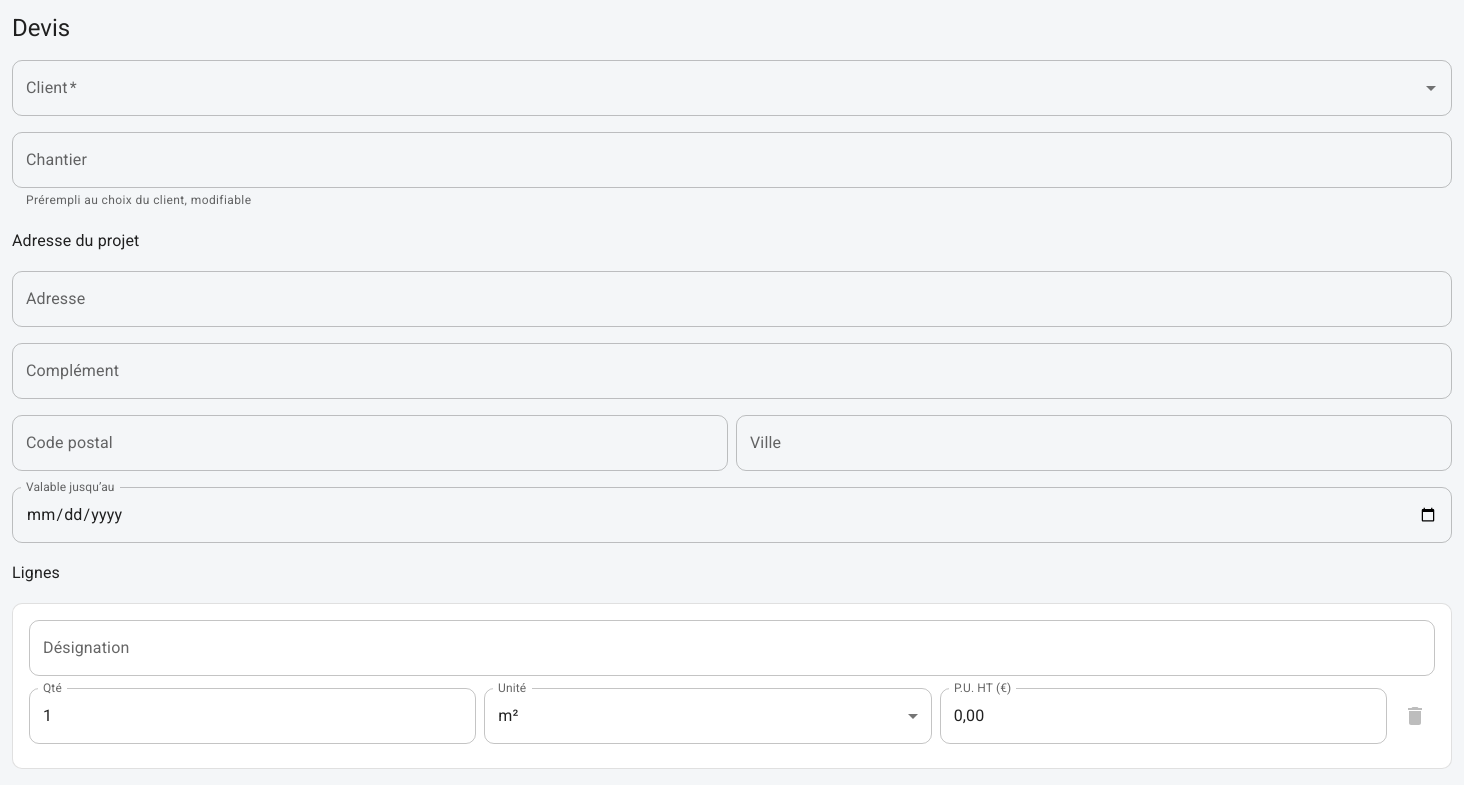
Scenario: DocumentEditPage › préremplit le prix HT à la sélection d’une désignation
Click the dropdown labelled "Désignation" at (717, 648), box [38,629,1396,667]
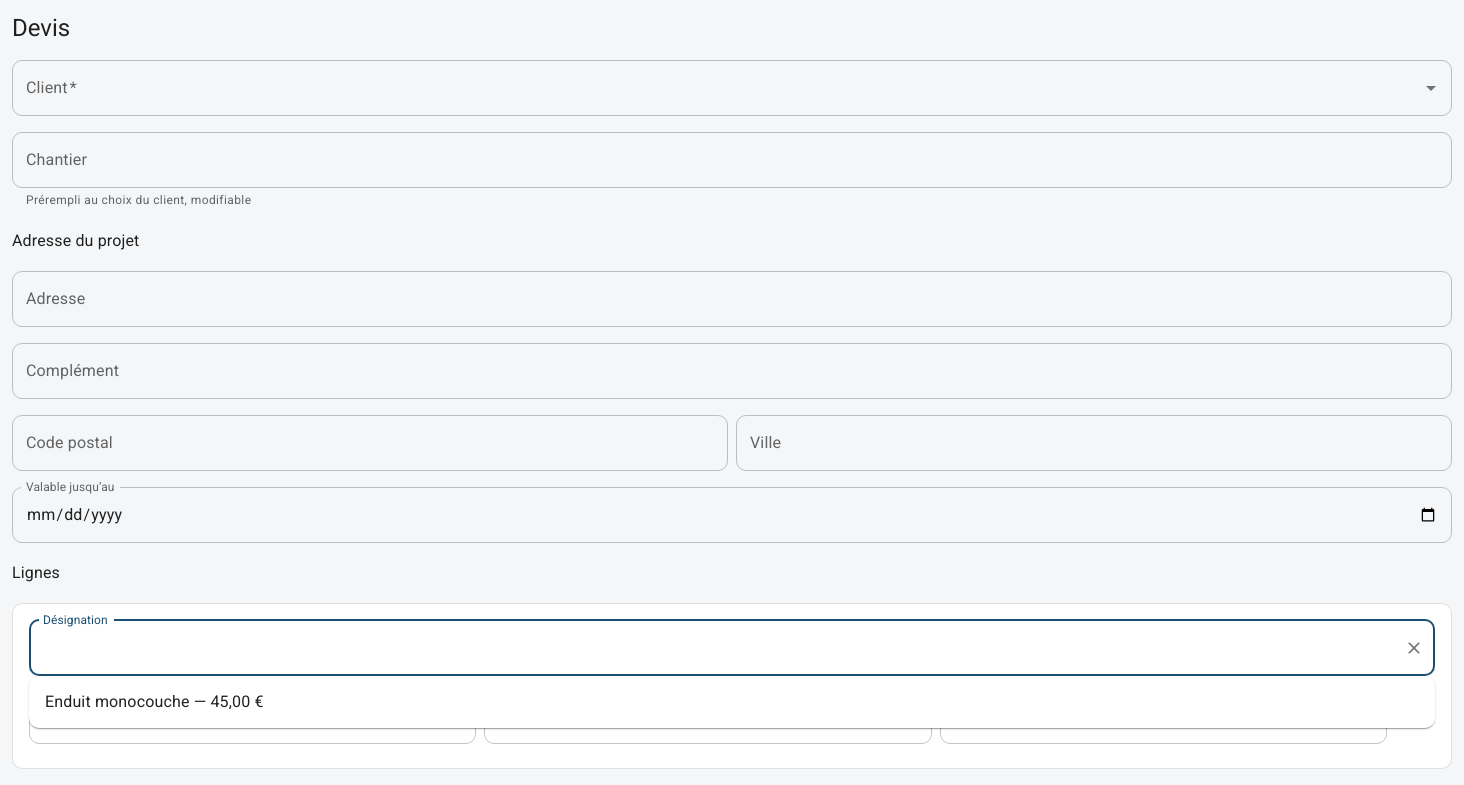
Click the option "Enduit monocouche — 45,00 €" at (154, 702), box [45,692,264,711]
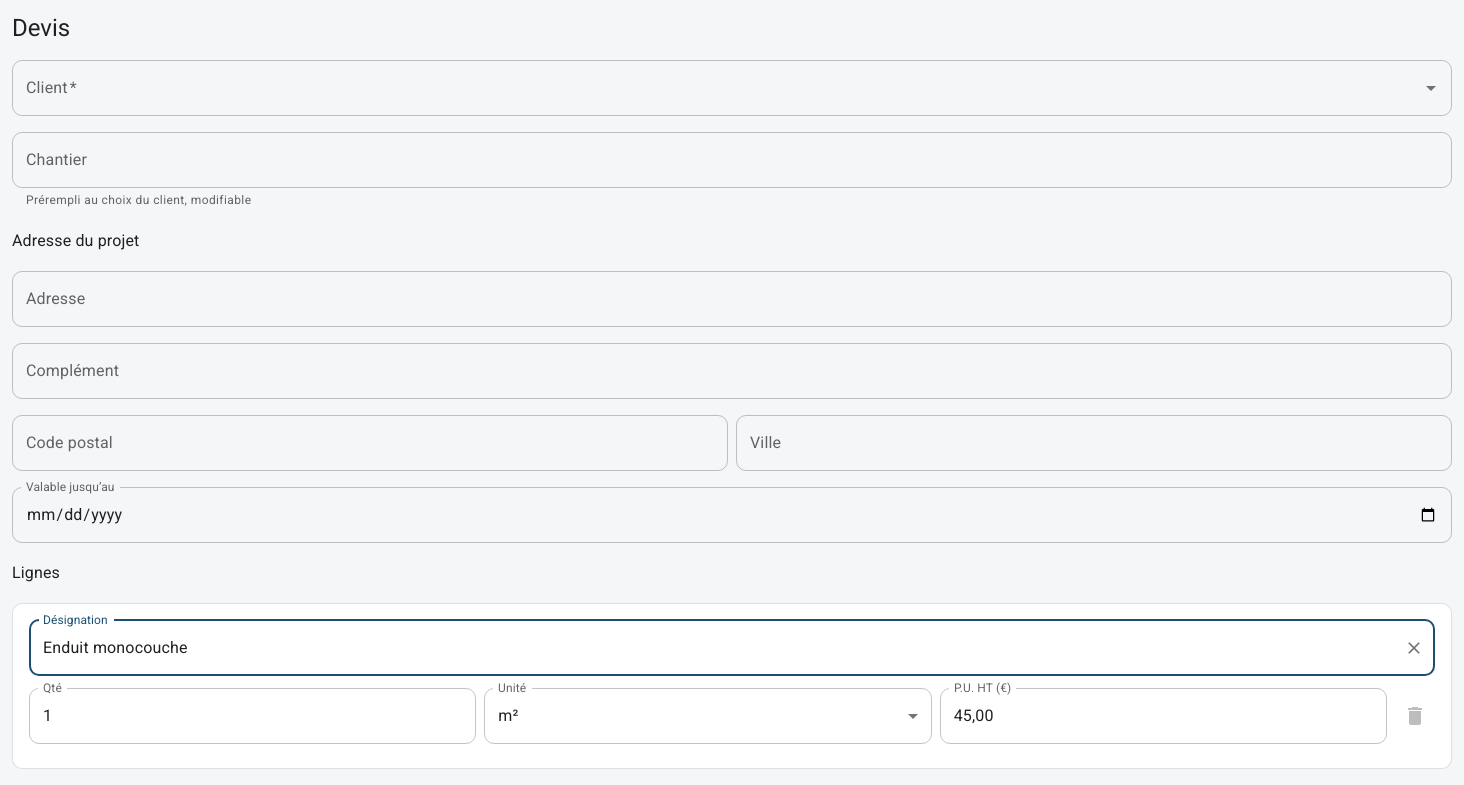
expect the dropdown labelled "Désignation" holds "Enduit monocouche": met, box [38,629,1396,667]
expect the field labelled "P.U. HT (€)" holds "45,00": met, box [940,688,1387,744]
